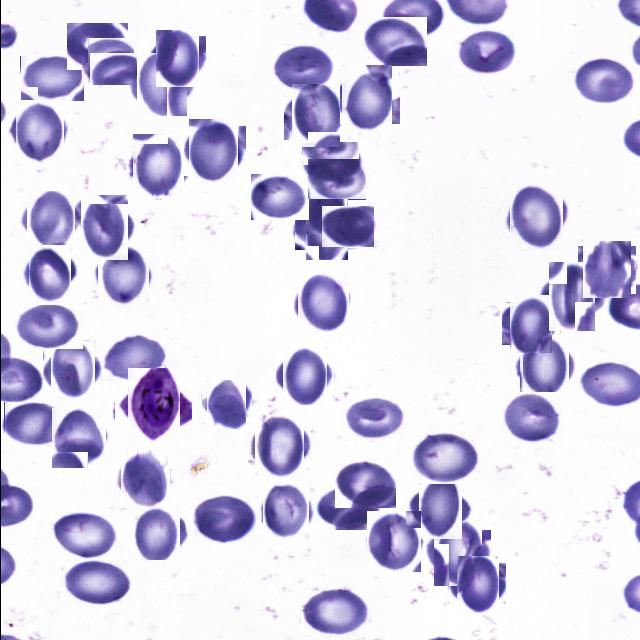difficult: (120, 374, 185, 439)
red blood cell: (506, 188, 566, 248), (300, 586, 370, 637), (336, 69, 395, 128), (412, 433, 480, 484), (192, 491, 256, 545), (59, 559, 131, 607), (128, 138, 187, 196), (514, 338, 572, 396), (94, 248, 152, 306), (294, 273, 352, 331), (542, 268, 600, 326), (49, 408, 107, 466), (364, 513, 422, 571), (133, 56, 190, 114), (184, 122, 241, 180), (270, 44, 336, 94), (12, 302, 82, 349), (500, 392, 563, 444), (428, 526, 486, 582), (49, 512, 116, 560), (100, 332, 165, 381), (250, 418, 306, 474), (287, 88, 343, 144), (76, 200, 132, 256), (363, 17, 426, 66), (313, 484, 380, 530), (11, 104, 66, 160), (573, 56, 635, 105), (412, 480, 467, 534), (117, 451, 172, 505), (19, 56, 83, 102), (23, 194, 77, 248), (334, 461, 395, 508), (66, 23, 127, 70), (341, 398, 405, 442), (299, 202, 352, 255), (454, 29, 515, 74), (130, 506, 182, 558), (46, 344, 98, 396), (259, 485, 311, 537), (580, 244, 632, 296), (3, 402, 64, 446), (250, 174, 308, 220), (278, 350, 330, 401), (80, 38, 135, 86), (504, 298, 556, 348), (24, 248, 74, 300), (301, 142, 362, 183), (452, 560, 502, 610), (152, 33, 202, 83), (306, 159, 365, 200), (320, 206, 373, 248), (204, 382, 248, 427)
